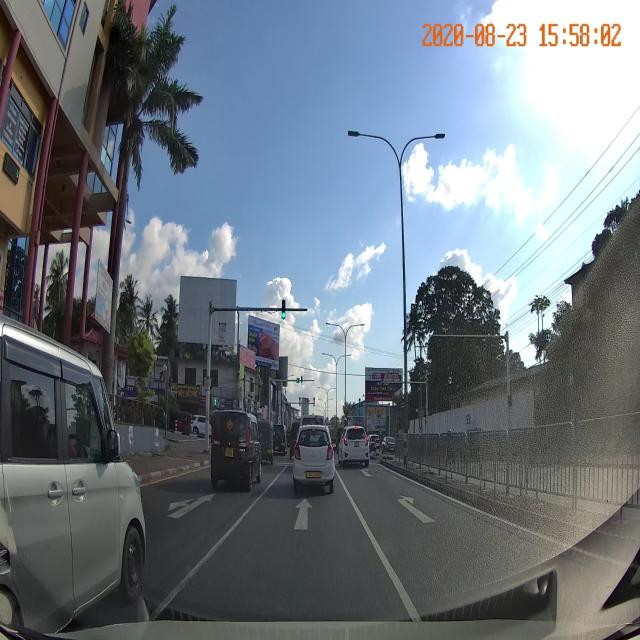Strelka vpered: (293, 497, 314, 530)
Strelka vpered - vlevo: (166, 491, 216, 521)
Strelka vpravo: (398, 495, 437, 524), (360, 468, 373, 477)
